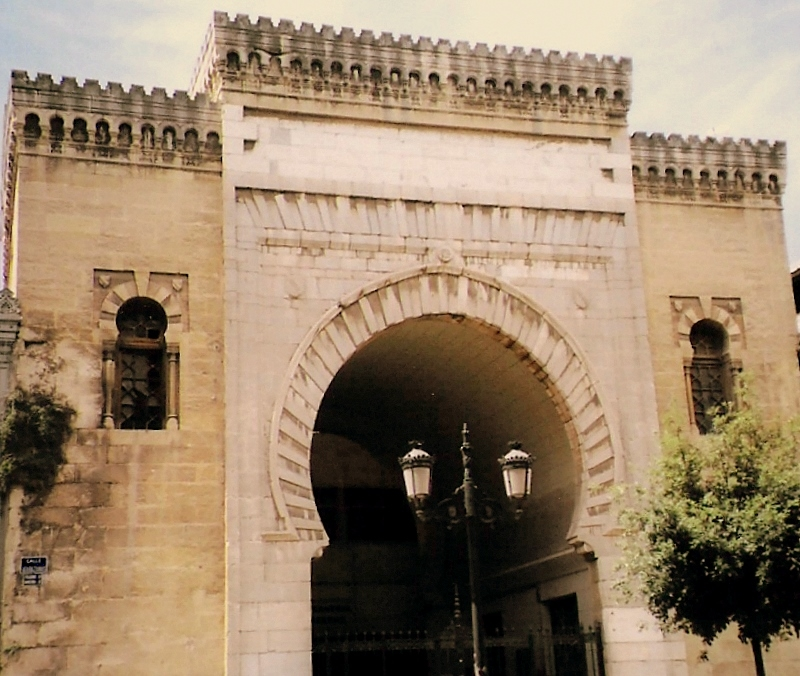arco-herradura: (264, 264, 621, 574), (96, 277, 191, 354), (670, 294, 750, 370)
dintel-adovelado: (241, 185, 626, 249)
